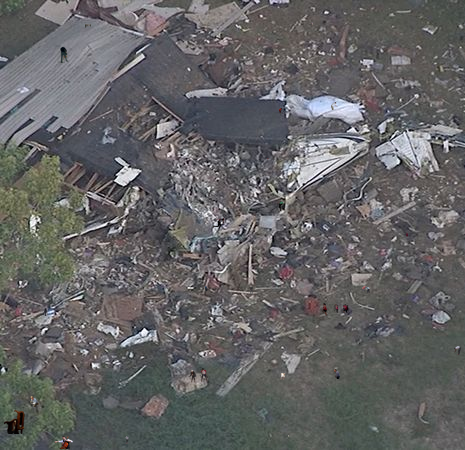Human: (4, 410, 25, 434), (313, 303, 349, 317), (212, 208, 236, 229), (188, 368, 208, 383), (50, 436, 73, 449), (60, 45, 69, 63), (30, 396, 39, 407), (276, 373, 286, 380), (277, 201, 284, 211), (454, 346, 461, 355), (334, 369, 340, 379), (362, 286, 370, 293), (331, 102, 338, 110), (249, 287, 253, 295), (125, 436, 129, 444), (91, 404, 99, 407), (159, 143, 162, 151), (44, 308, 47, 316), (85, 24, 91, 28), (279, 108, 282, 114), (205, 285, 208, 291), (406, 232, 408, 238), (107, 60, 109, 64), (442, 248, 444, 252), (311, 22, 313, 26), (267, 158, 269, 161), (251, 245, 252, 248), (288, 435, 289, 437)
